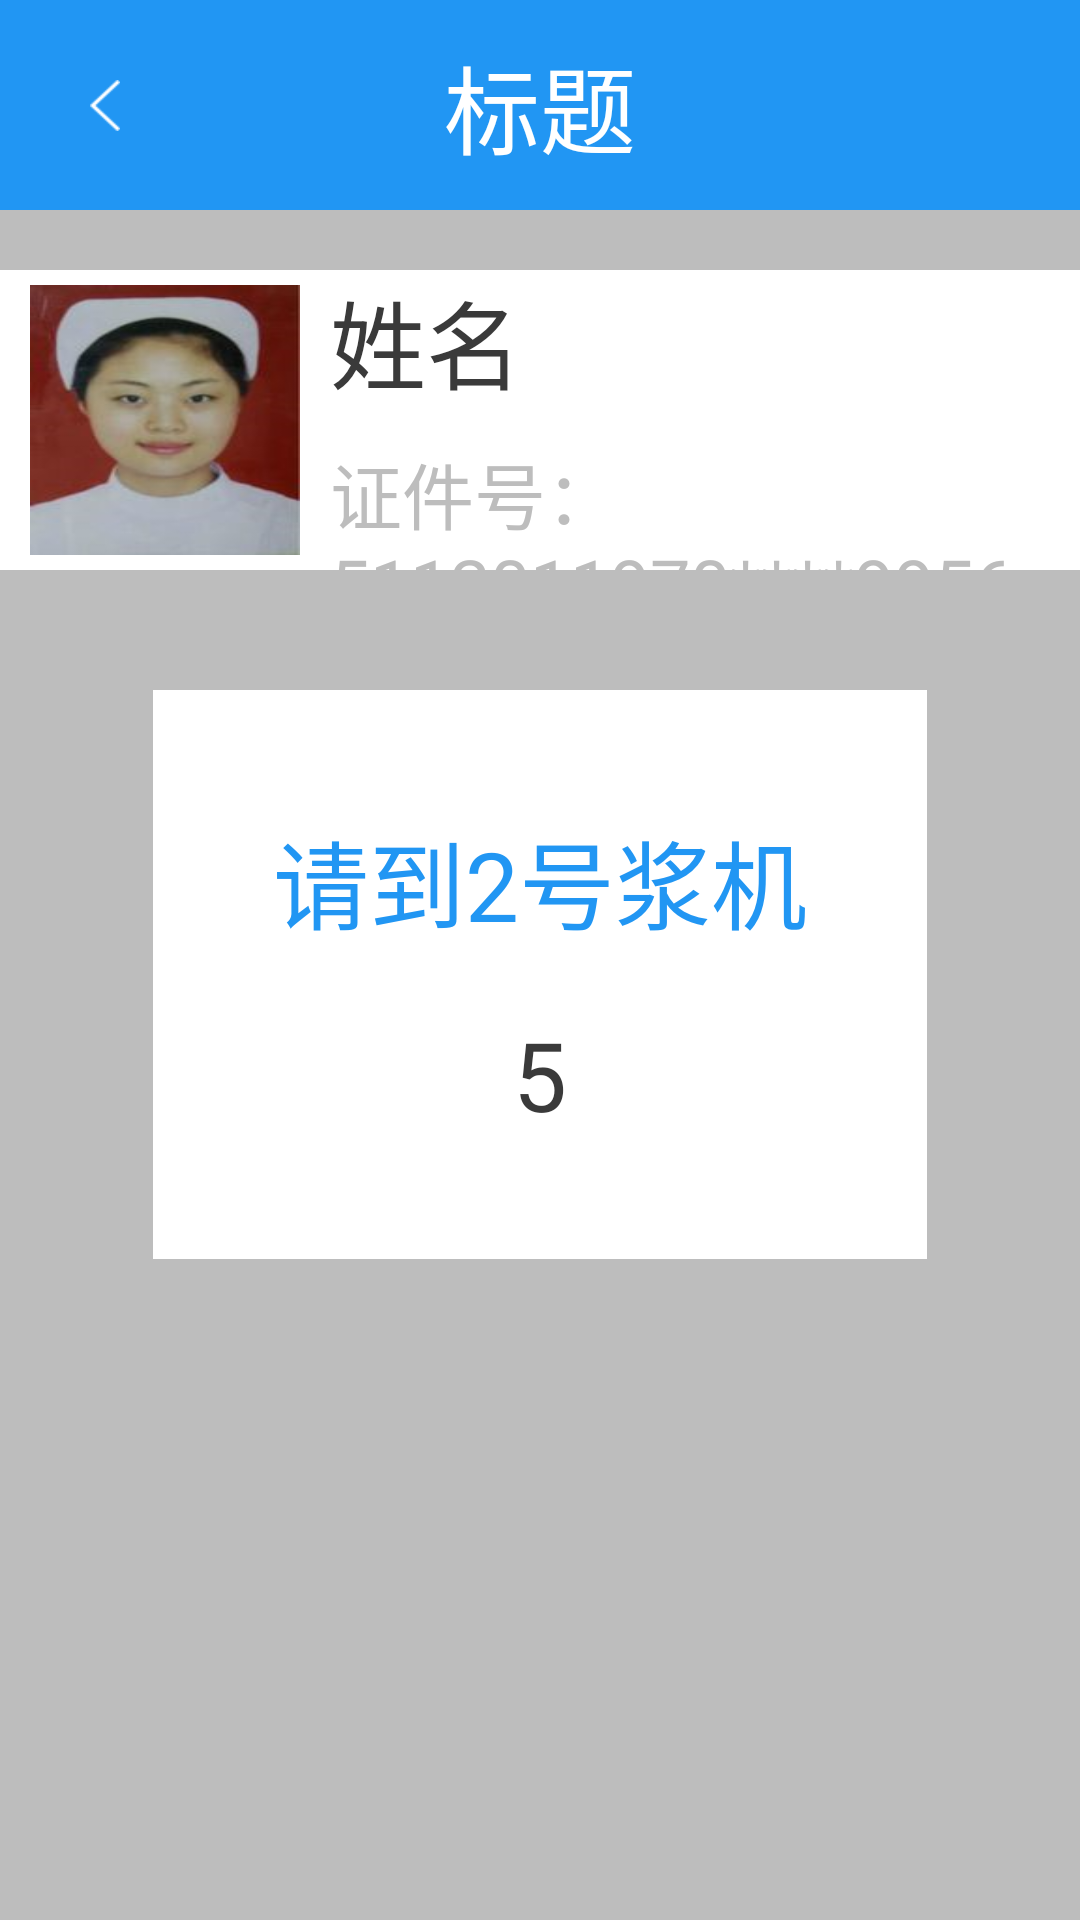

Named icons in this screenshot (1080*1920) and their centers, point (x, y):
jiantou press: point (105, 105)
norse: point (165, 420)
